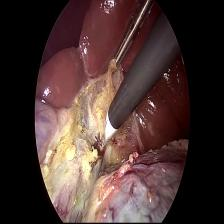Grasper: (103, 1, 157, 80)
Hook: (90, 109, 119, 162)
